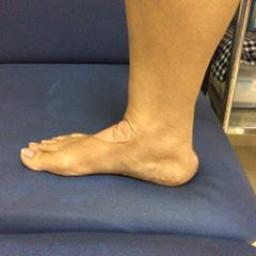Medial View -Right Foot-: (13, 72, 211, 190)
